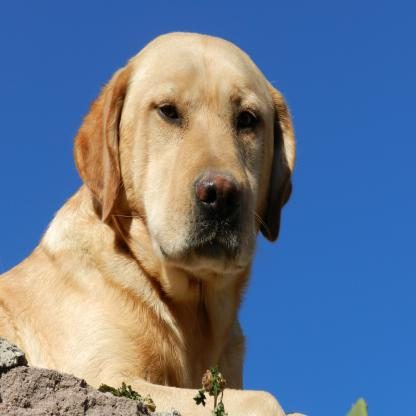Rotveler: (0, 25, 301, 415)
